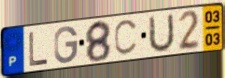2: (177, 9, 201, 53)
8: (84, 19, 113, 64)
C: (113, 18, 140, 58)
G: (53, 25, 80, 65)
L: (28, 30, 50, 67)
U: (147, 12, 176, 56)
